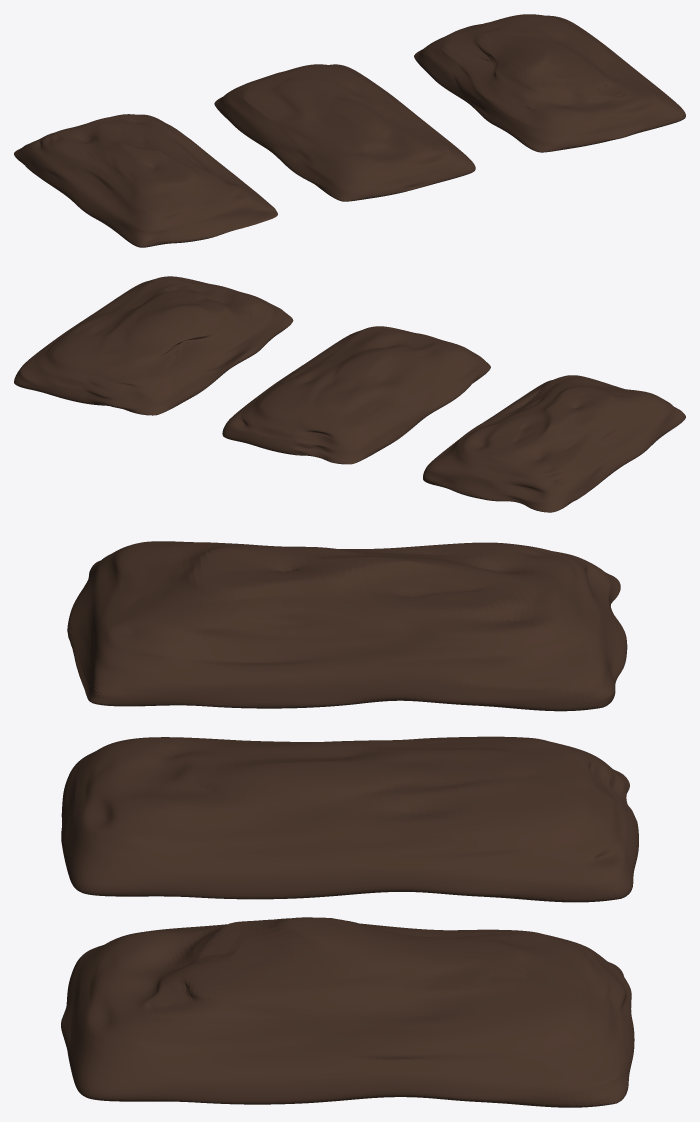
The model's file is Boden_Graber_Deckel_02.fbx.
The picture shows the model from 3 angles, top to bottom: view 1: azimuth 30°, elevation 25°; view 2: azimuth 150°, elevation 25°; view 3: azimuth 270°, elevation 25°; orthographic projection. The views are drawn at different scales.
Parts seen in each view (by area): view 1: Cube.055, Cube.054, Cube.053; view 2: Cube.055, Cube.054, Cube.053; view 3: Cube.055, Cube.054, Cube.053.
Part boxes in pixels (left/top/right/bottom): Cube.055: left=414, top=14, right=685, bottom=152; Cube.054: left=214, top=64, right=475, bottom=201; Cube.053: left=14, top=114, right=277, bottom=247; Cube.055: left=14, top=276, right=293, bottom=415; Cube.054: left=222, top=326, right=490, bottom=464; Cube.053: left=423, top=375, right=685, bottom=512; Cube.055: left=61, top=917, right=634, bottom=1107; Cube.054: left=61, top=736, right=638, bottom=902; Cube.053: left=67, top=541, right=627, bottom=711.
Bounding box in the file's own units: 249 × 18.56 × 112.
